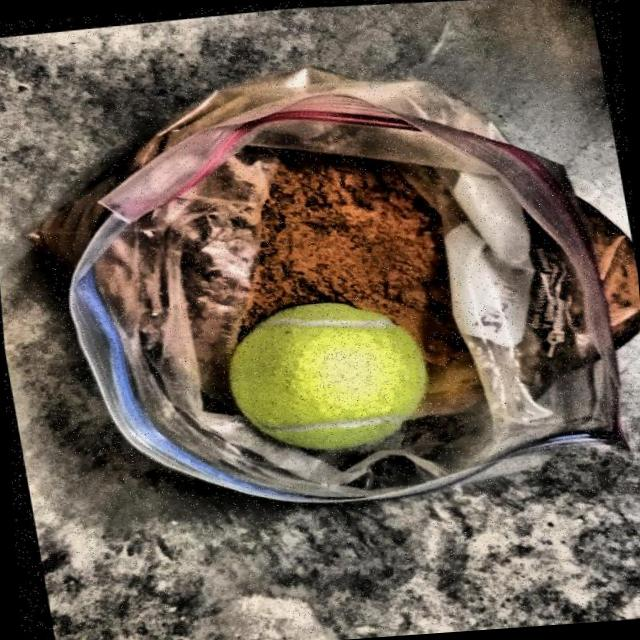Tennis Ball: (216, 287, 438, 464)
